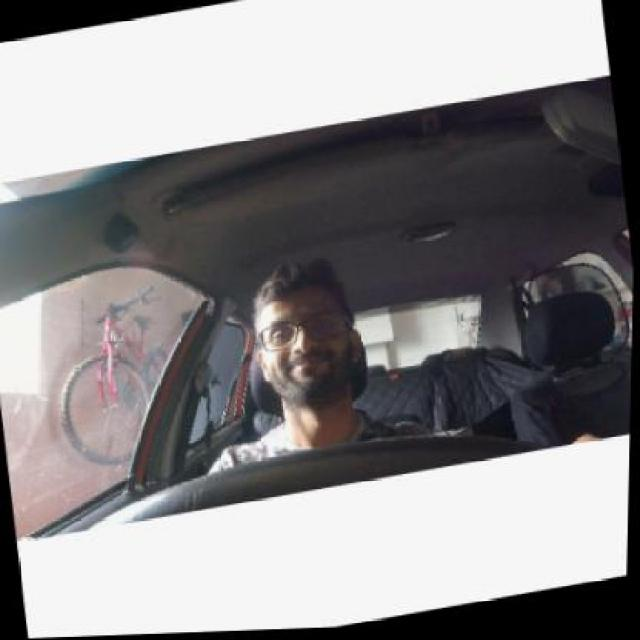person: (250, 260, 370, 413)
